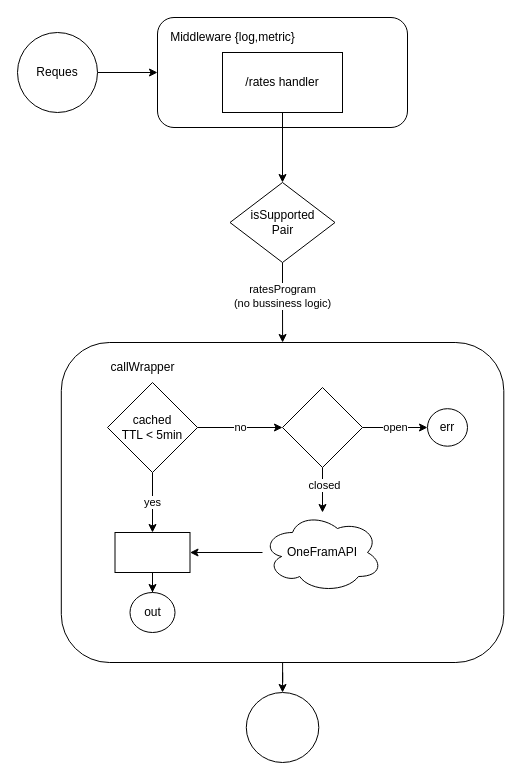
Some shapes in this 522 by 780 pixel diagram are drawn without their labels. The box of each missing label's shape, as (x1, y1, x2, y2) in pixels:
CB State: (282, 386, 362, 468)
PushMetric: (114, 532, 190, 572)
Reponse: (245, 692, 319, 762)
